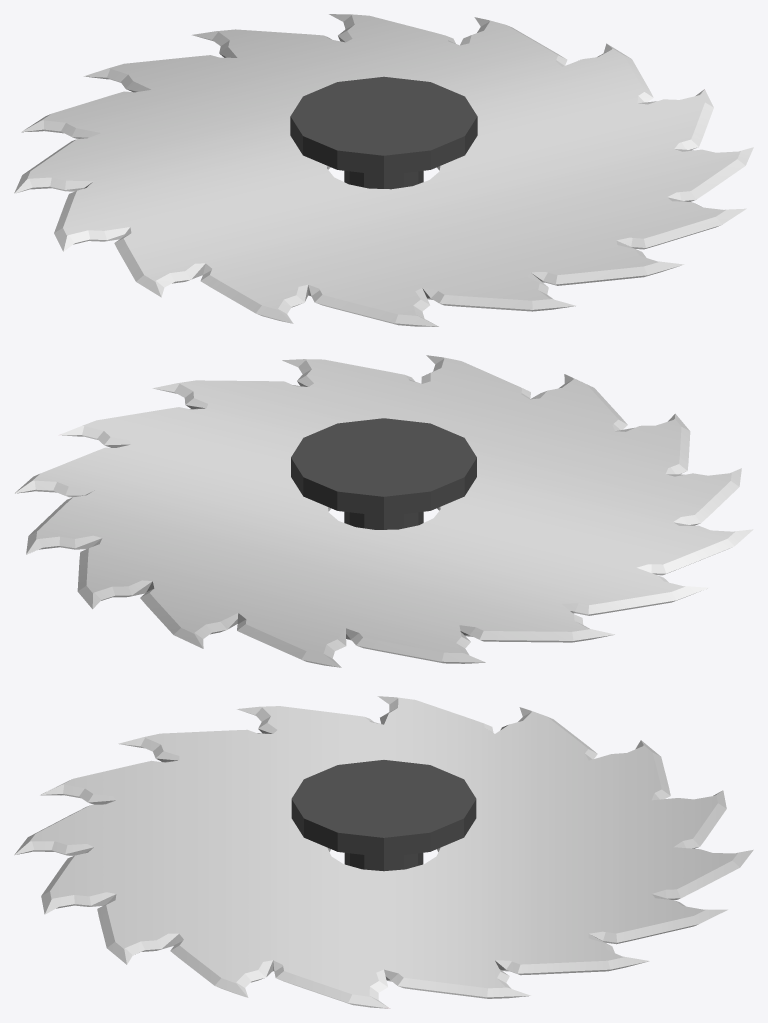
File: SM_Wpn_SawBlade_01.fbx
The picture shows the model from 3 angles, top to bottom: view 1: azimuth 30°, elevation 25°; view 2: azimuth 150°, elevation 25°; view 3: azimuth 270°, elevation 25°; orthographic projection.
Parts seen in each view (by area): view 1: SM_Wpn_SawBlade, SM_Wpn_SawBlade.001; view 2: SM_Wpn_SawBlade, SM_Wpn_SawBlade.001; view 3: SM_Wpn_SawBlade, SM_Wpn_SawBlade.001.
Boxes of the visible parts, <box> form: SM_Wpn_SawBlade: <box>14,14,753,326</box>; SM_Wpn_SawBlade.001: <box>290,76,477,189</box>; SM_Wpn_SawBlade: <box>14,355,753,667</box>; SM_Wpn_SawBlade.001: <box>291,418,476,529</box>; SM_Wpn_SawBlade: <box>14,696,753,1008</box>; SM_Wpn_SawBlade.001: <box>291,760,476,871</box>.
Size of the model in its own units: 128 by 17.42 by 128.
